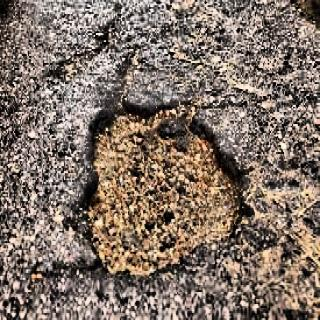pothole: (81, 100, 247, 277)
